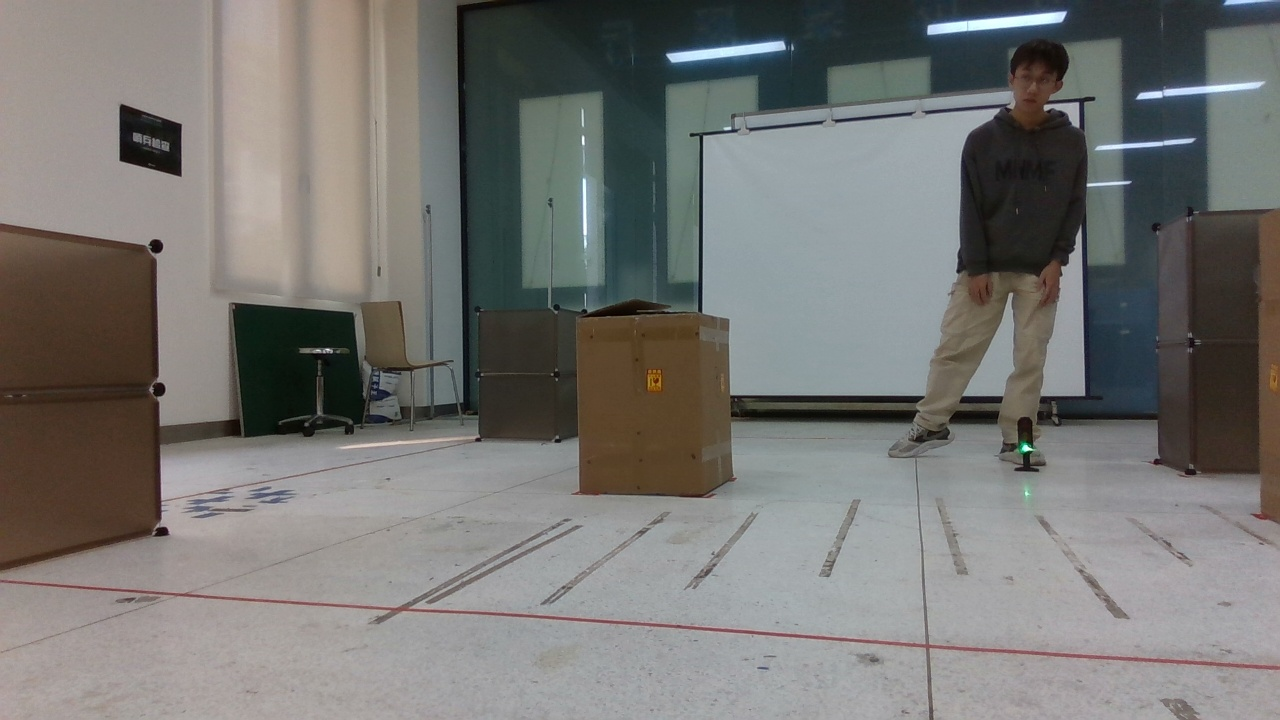green_light: (1007, 410, 1044, 478)
